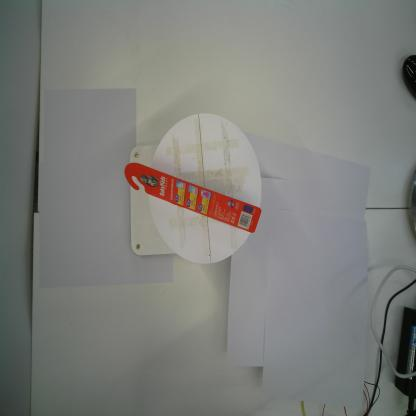Personal Hygiene: (124, 162, 262, 234)
